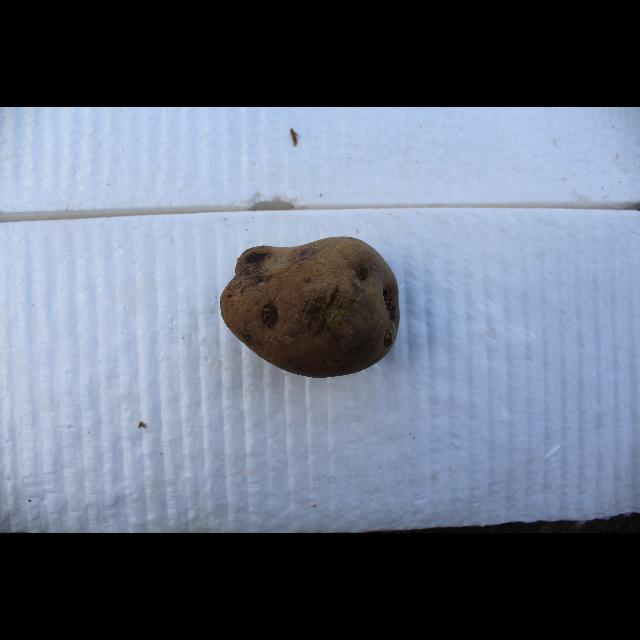Diseased-fungal potato: (216, 234, 404, 380)
